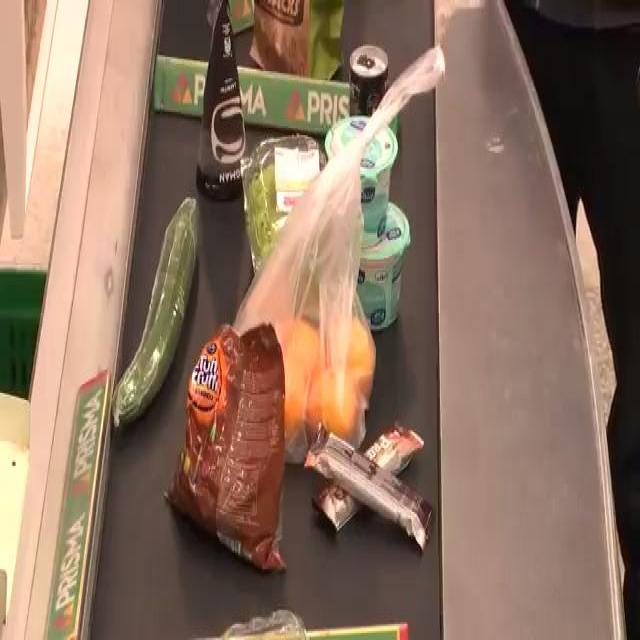beverage: (354, 49, 392, 113)
food-box: (180, 311, 288, 569), (255, 276, 382, 444), (303, 424, 437, 541), (247, 126, 334, 284), (352, 215, 414, 349), (331, 123, 398, 238), (209, 39, 251, 190)
fruit: (110, 190, 210, 438)
